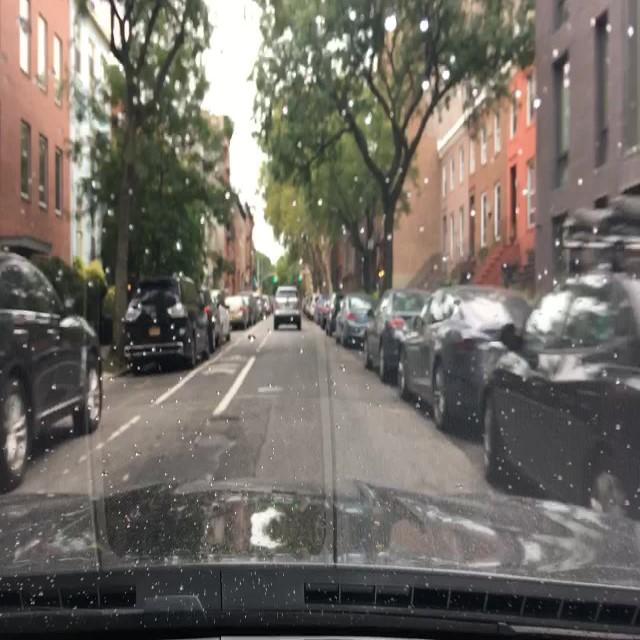normal: (319, 265, 640, 550), (265, 275, 314, 340)
